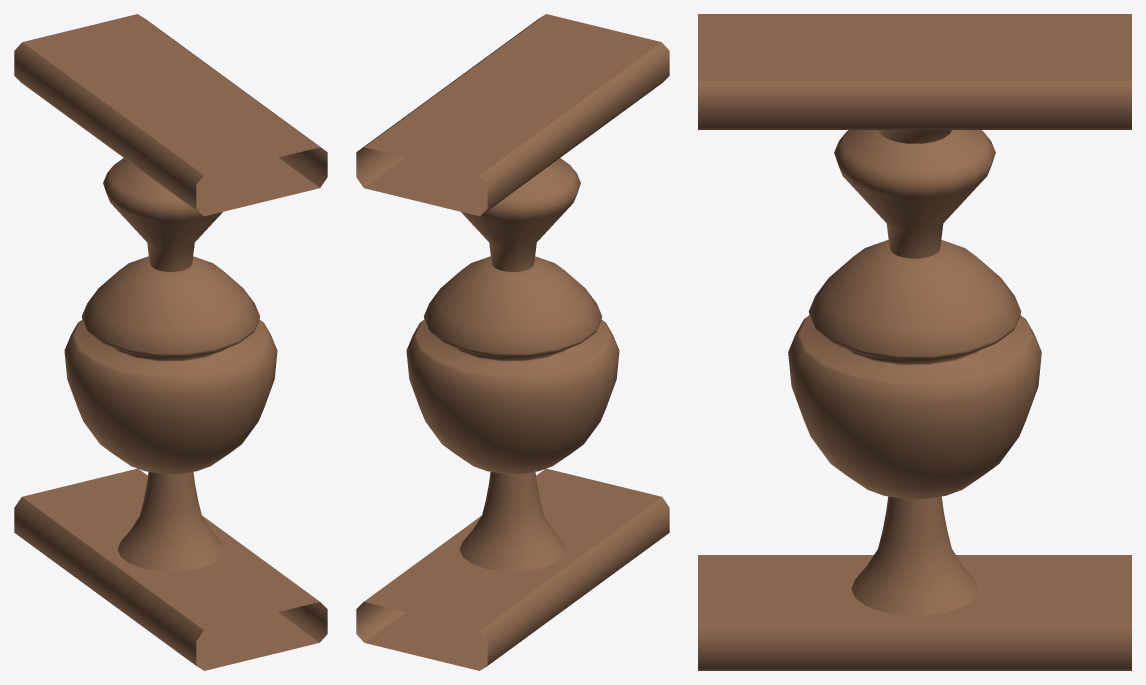
The model's file is OT_117_118_fancy_railings_straight.glb.
3 views of the same model, side by side, from view 1: azimuth 30°, elevation 25°; view 2: azimuth 150°, elevation 25°; view 3: azimuth 270°, elevation 25° (orthographic). The views are drawn at different scales.
Parts seen in each view (by area): view 1: railings, decoration; view 2: railings, decoration; view 3: railings, decoration.
Boxes of the visible parts, left/top/right/bottom form: railings: left=14, top=14, right=327, bottom=670; decoration: left=64, top=158, right=277, bottom=571; railings: left=356, top=14, right=669, bottom=670; decoration: left=406, top=158, right=619, bottom=571; railings: left=698, top=14, right=1131, bottom=670; decoration: left=788, top=130, right=1041, bottom=615.
Size of the model in its own units: 0.4319 by 1.12 by 0.75.
